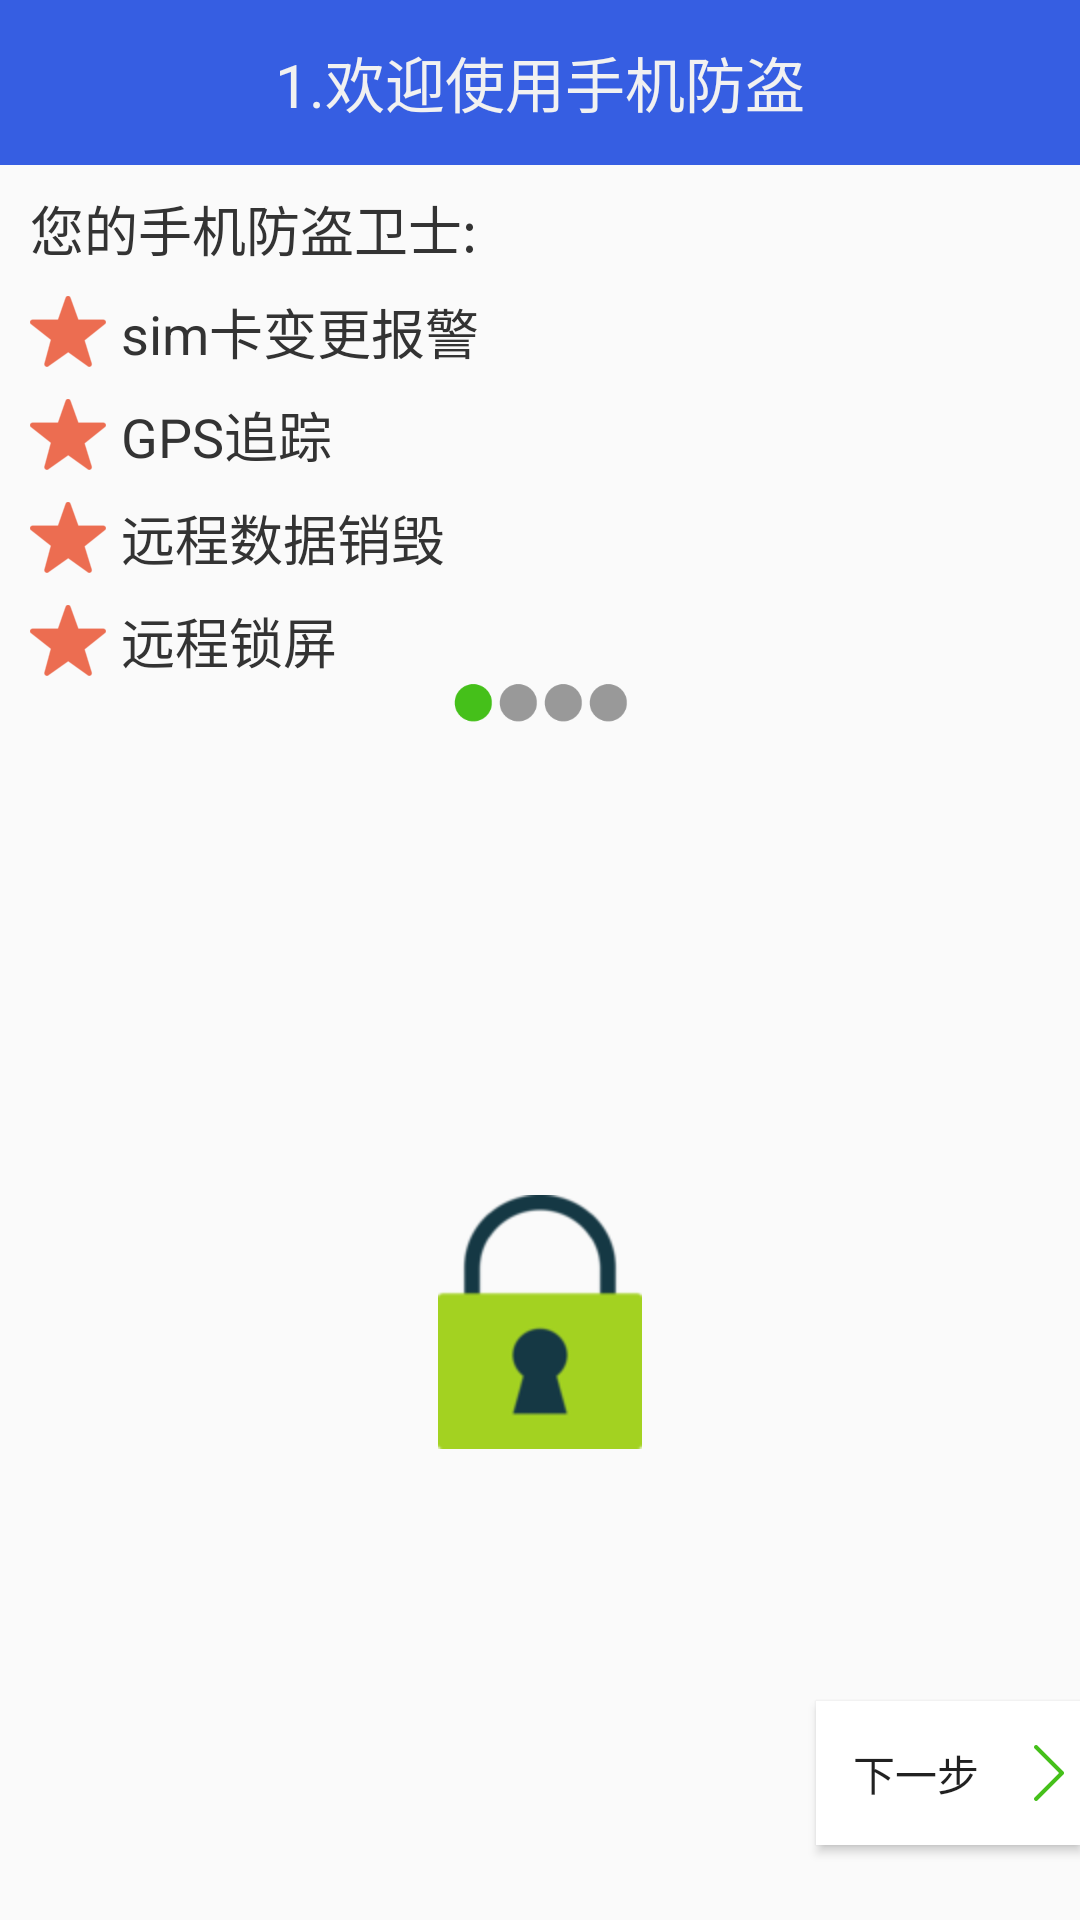

Screen size 1080w x 1920h. Icon name, then its box in pixels as (x1, y1, x2, y2):
safer lock: (438, 1195, 642, 1449)
